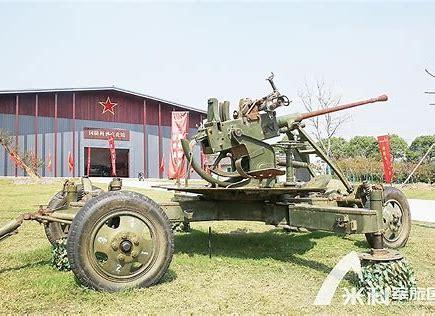MIL_SPG: (27, 76, 411, 291)
